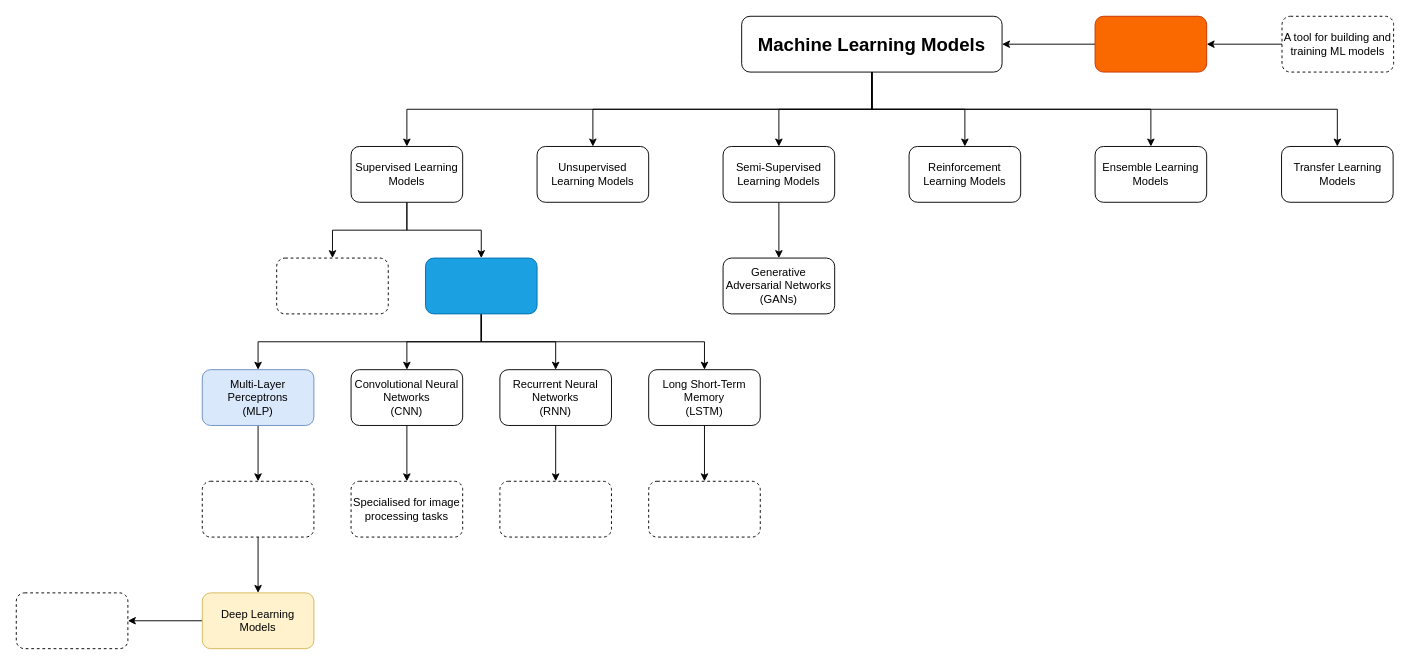
Some shapes in this 1410 by 665 pixel diagram are drawn without their labels. Here are the shapes that lost their labels. From the top down, the centre of each, then its label:
At point 1150,43: "PyTorch".
At point 332,285: "Other Supervised Learning Models".
At point 481,285: "Neural Networks".
At point 257,508: "Basic feedforward neural networks".
At point 555,508: "Suitable for sequential data, like time series or natural language processing".
At point 704,508: "A type of RNN that can learn long-term dependencies".
At point 71,620: "They are a subset of neural networks with Multiple layers".
